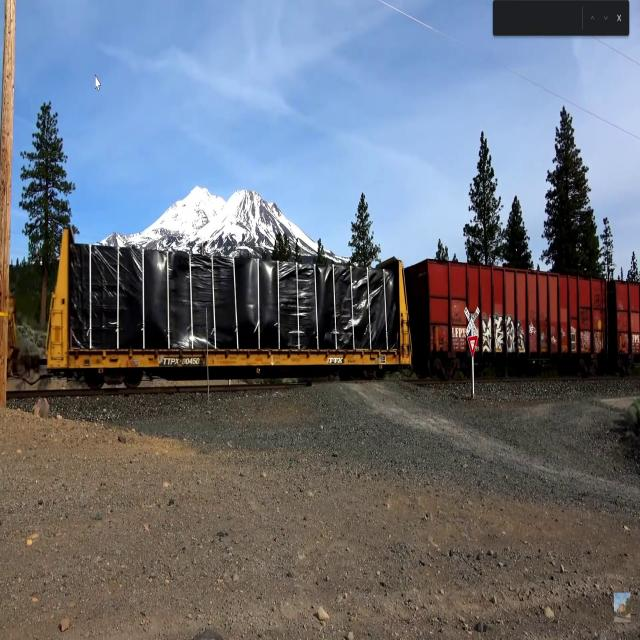cargo: (70, 242, 398, 352)
flatcar_bulkhead: (39, 221, 417, 387)
gondola: (410, 254, 610, 374)
